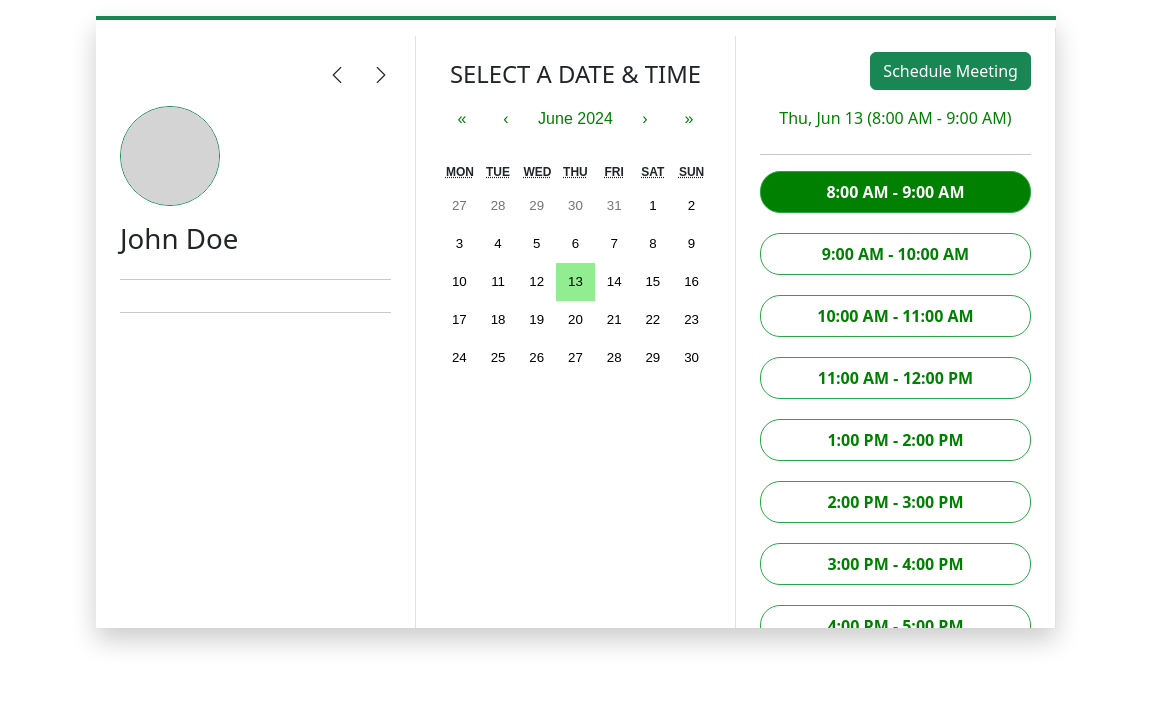
displays the previous faculty when pressing right arrow
Expected: the heading "John Doe" is shown, [120,219,238,257]
Click the icon with test id "chevron-right-icon" at (381, 75), box [371,60,391,90]
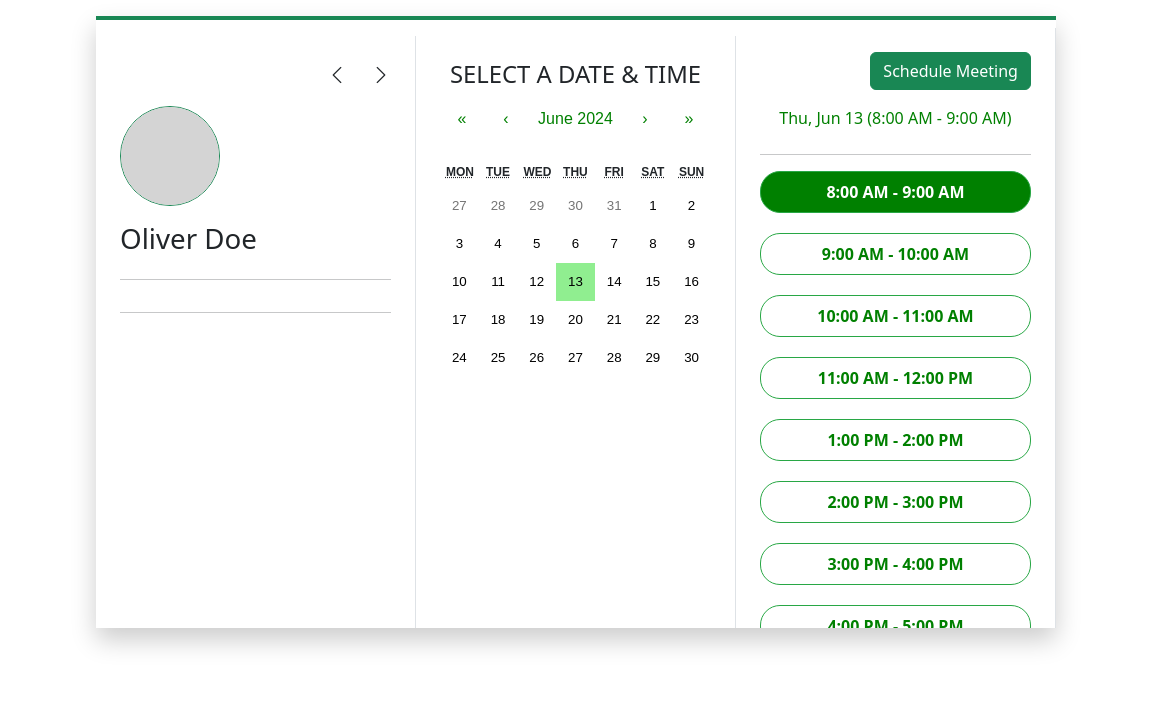
Click the icon with test id "chevron-right-icon" at (381, 75), box [371,60,391,90]
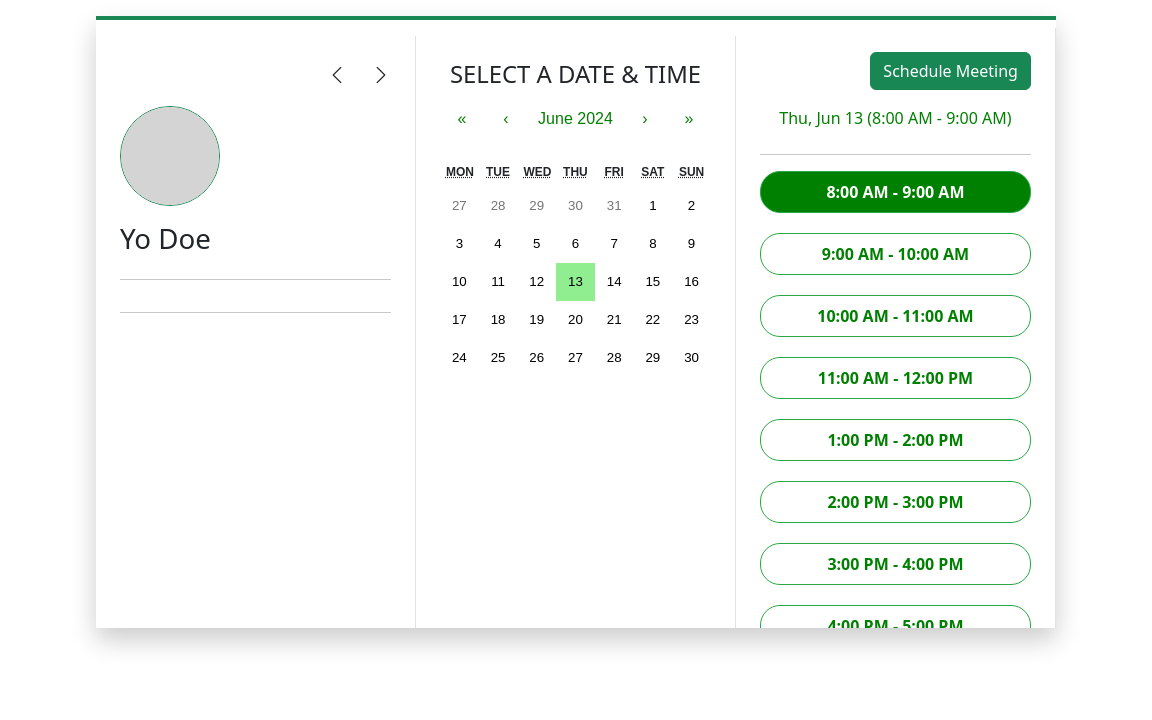
Expected: the heading "Yo Doe" is shown, [120,219,211,257]
